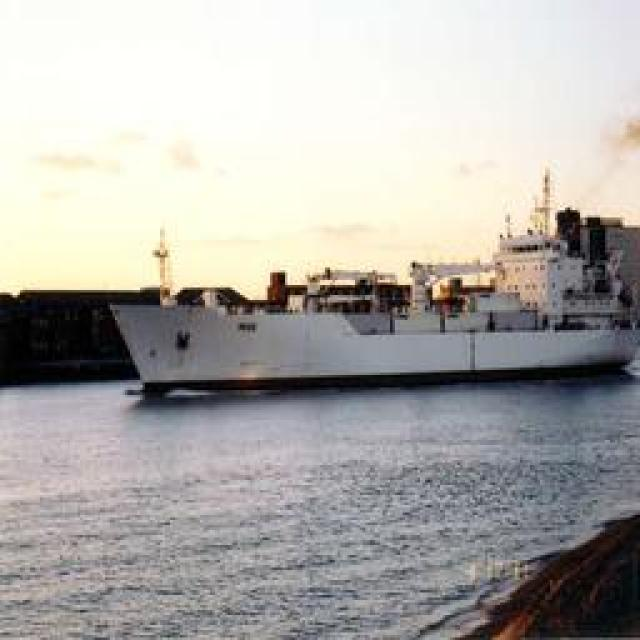ship: (114, 209, 638, 396)
